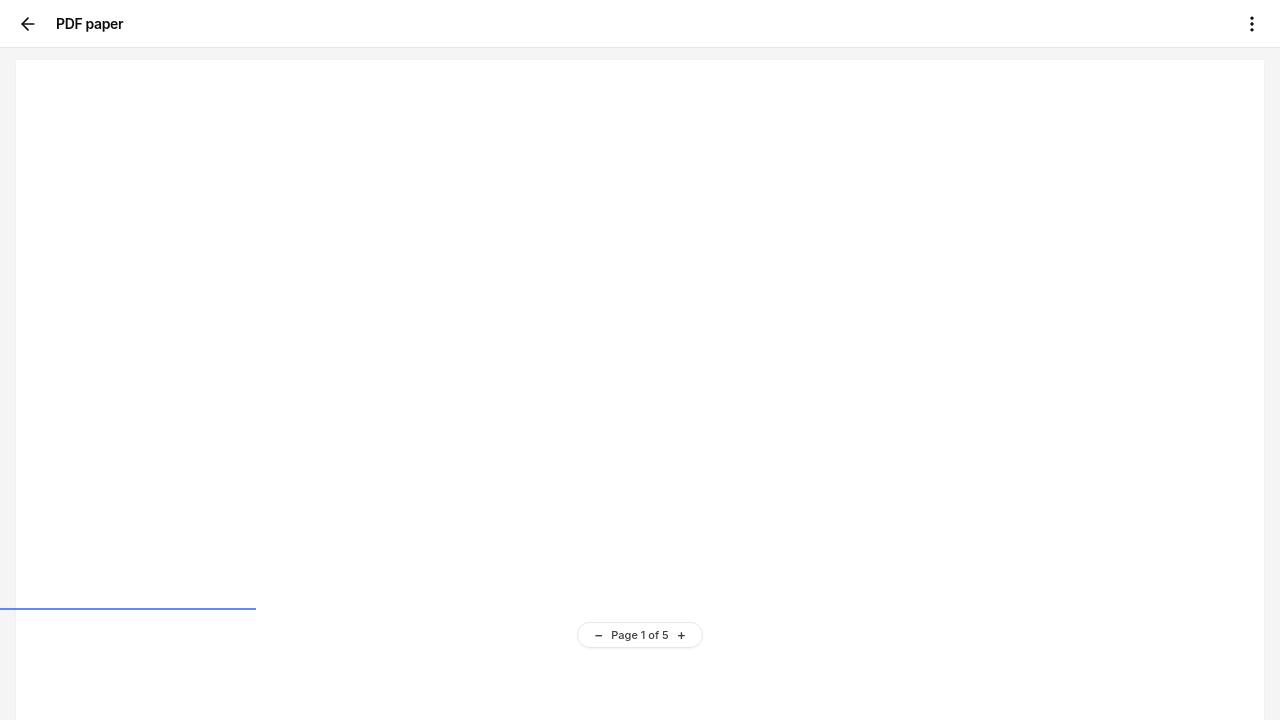
MobileReader — PDF mode › overflow menu can flip PDF mode back to extracted-text reading mode
Click the button with test id "mreader-overflow" at (1252, 24), box [1232,4,1272,44]
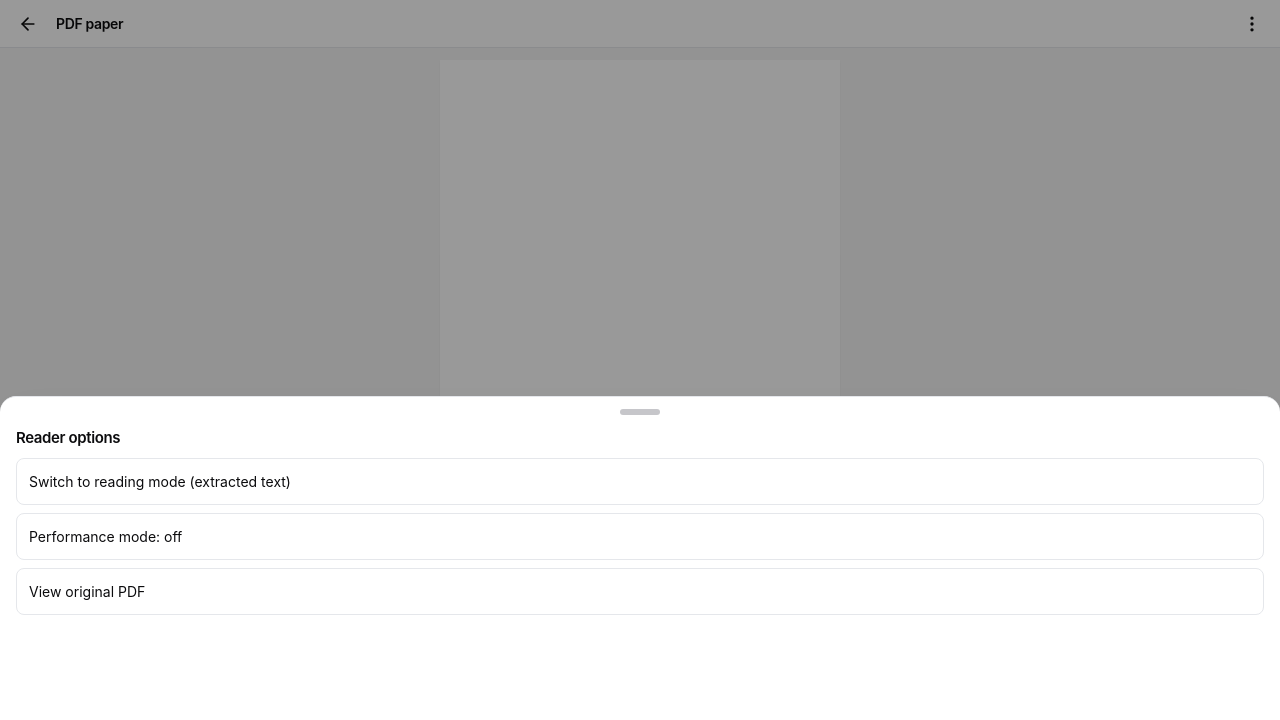
Now the element with test id "mreader-overflow-sheet" is shown, box [16,458,1264,622]
Click the button with test id "mreader-toggle-mode" at (160, 481), box [16,458,1264,504]
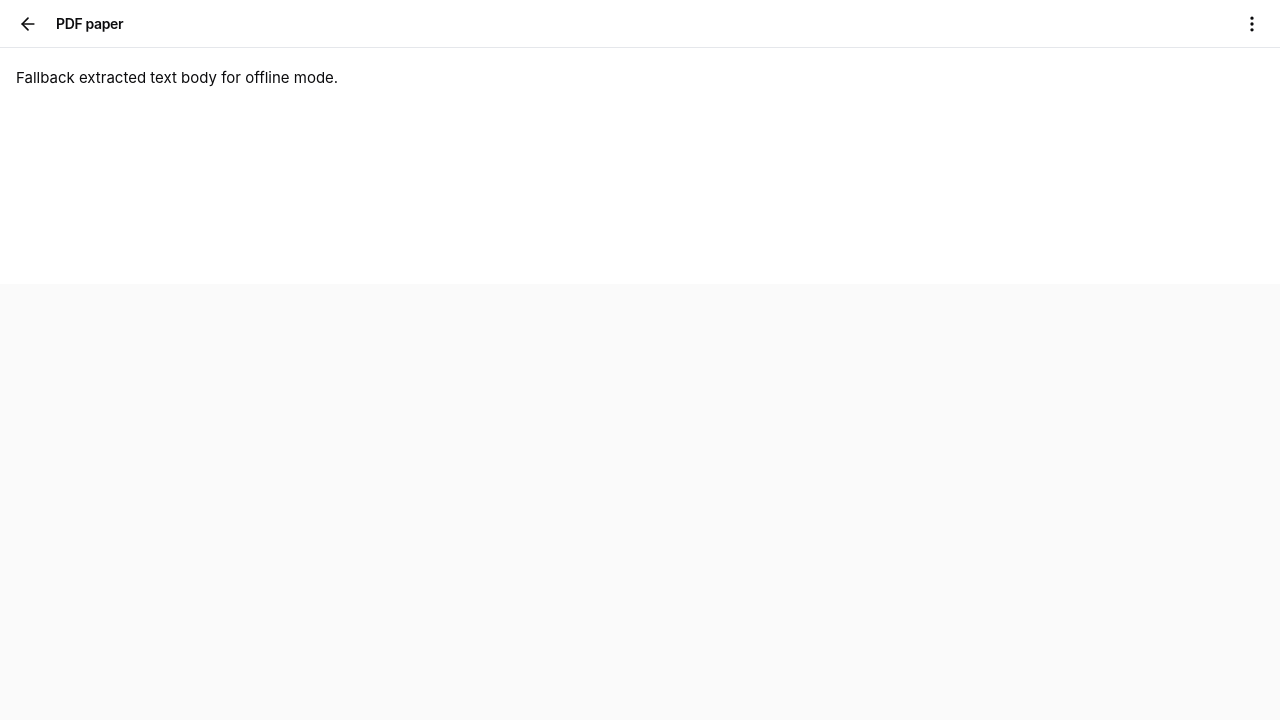
Now the element with test id "mreader-body" is shown, box [16,68,338,87]
